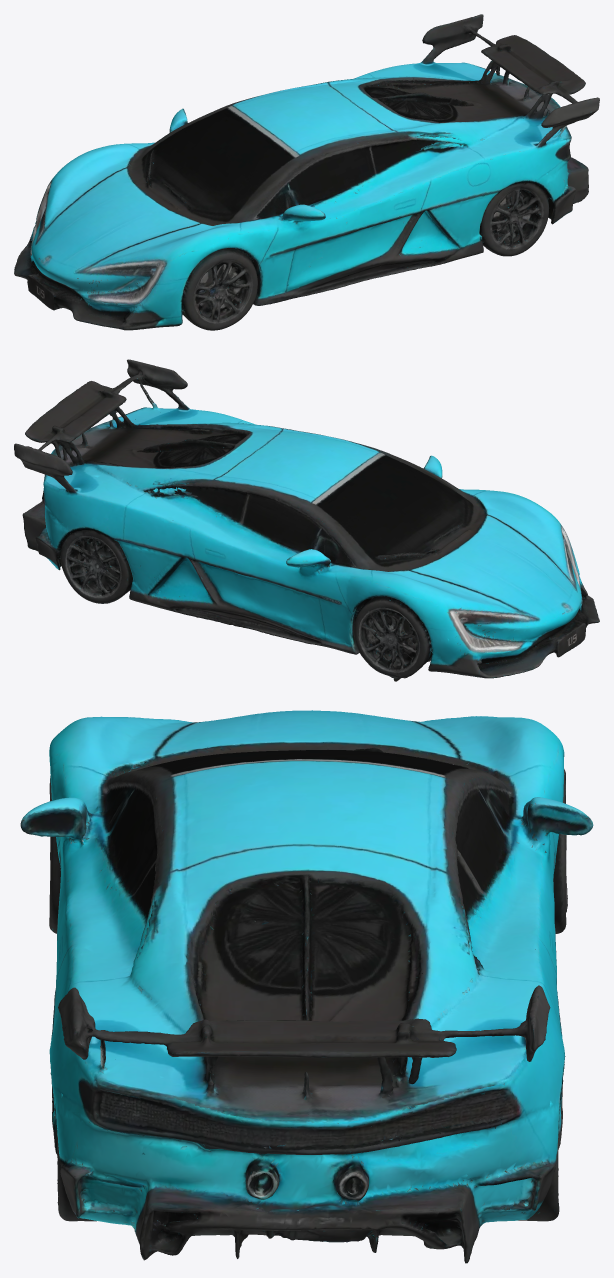
Rendered from BYD.glb.
3 renders of one model, top to bottom at view 1: azimuth 30°, elevation 25°; view 2: azimuth 150°, elevation 25°; view 3: azimuth 270°, elevation 25°, orthographic. The views are drawn at different scales.
Visible parts, largest first — view 1: Mesh_0; view 2: Mesh_0; view 3: Mesh_0.
Boxes of the visible parts, x1,y1,x2,y2 form: Mesh_0: (14, 14, 599, 330); Mesh_0: (14, 359, 599, 681); Mesh_0: (20, 710, 593, 1263).
Size of the model in its own units: 2 by 0.5377 by 0.9649.
Materials: 1 (1 with a texture image).
